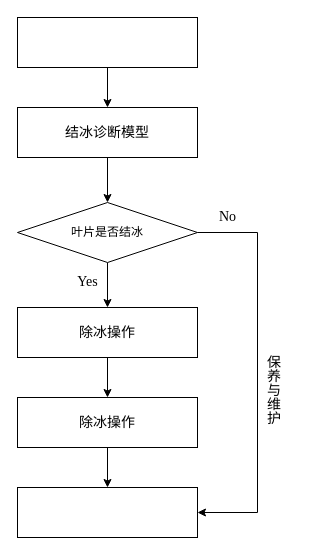
Some shapes in this 335 by 555 pixel diagram are drawn without their labels. Here are the shapes that lost their labels. From the top down, the centre of each, then its label:
At pixel 107 42: "SCADA系统数据采集与监测".
At pixel 107 512: "风机正常运行".
